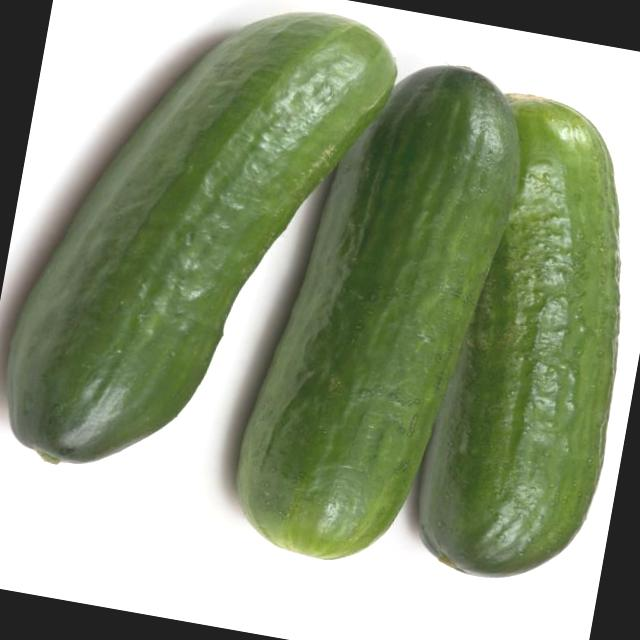Cucumber: (0, 0, 398, 504), (222, 45, 534, 582), (405, 90, 640, 595)
